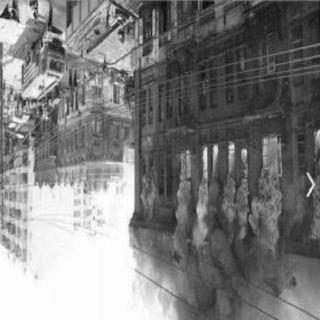Fire: (138, 158, 158, 218), (310, 132, 320, 245)
Smoke: (129, 228, 277, 316)
other: (18, 28, 66, 108)
